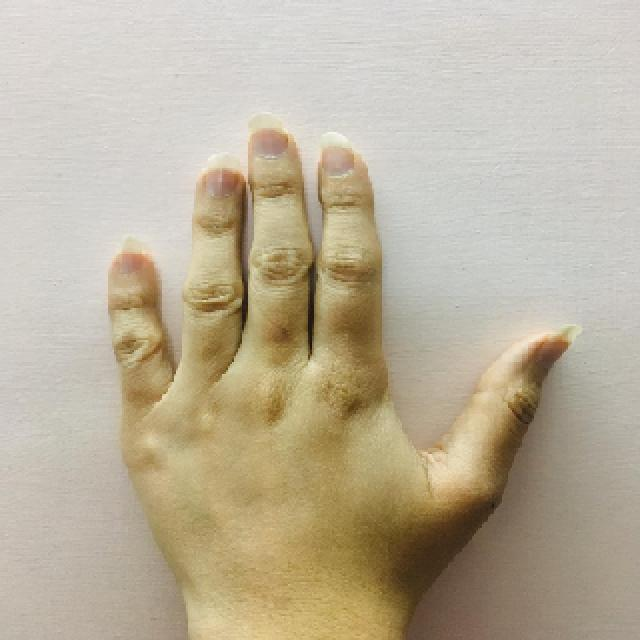Nail: (528, 325, 581, 379), (249, 114, 289, 157), (205, 154, 240, 198), (321, 132, 354, 175), (120, 236, 142, 272)
